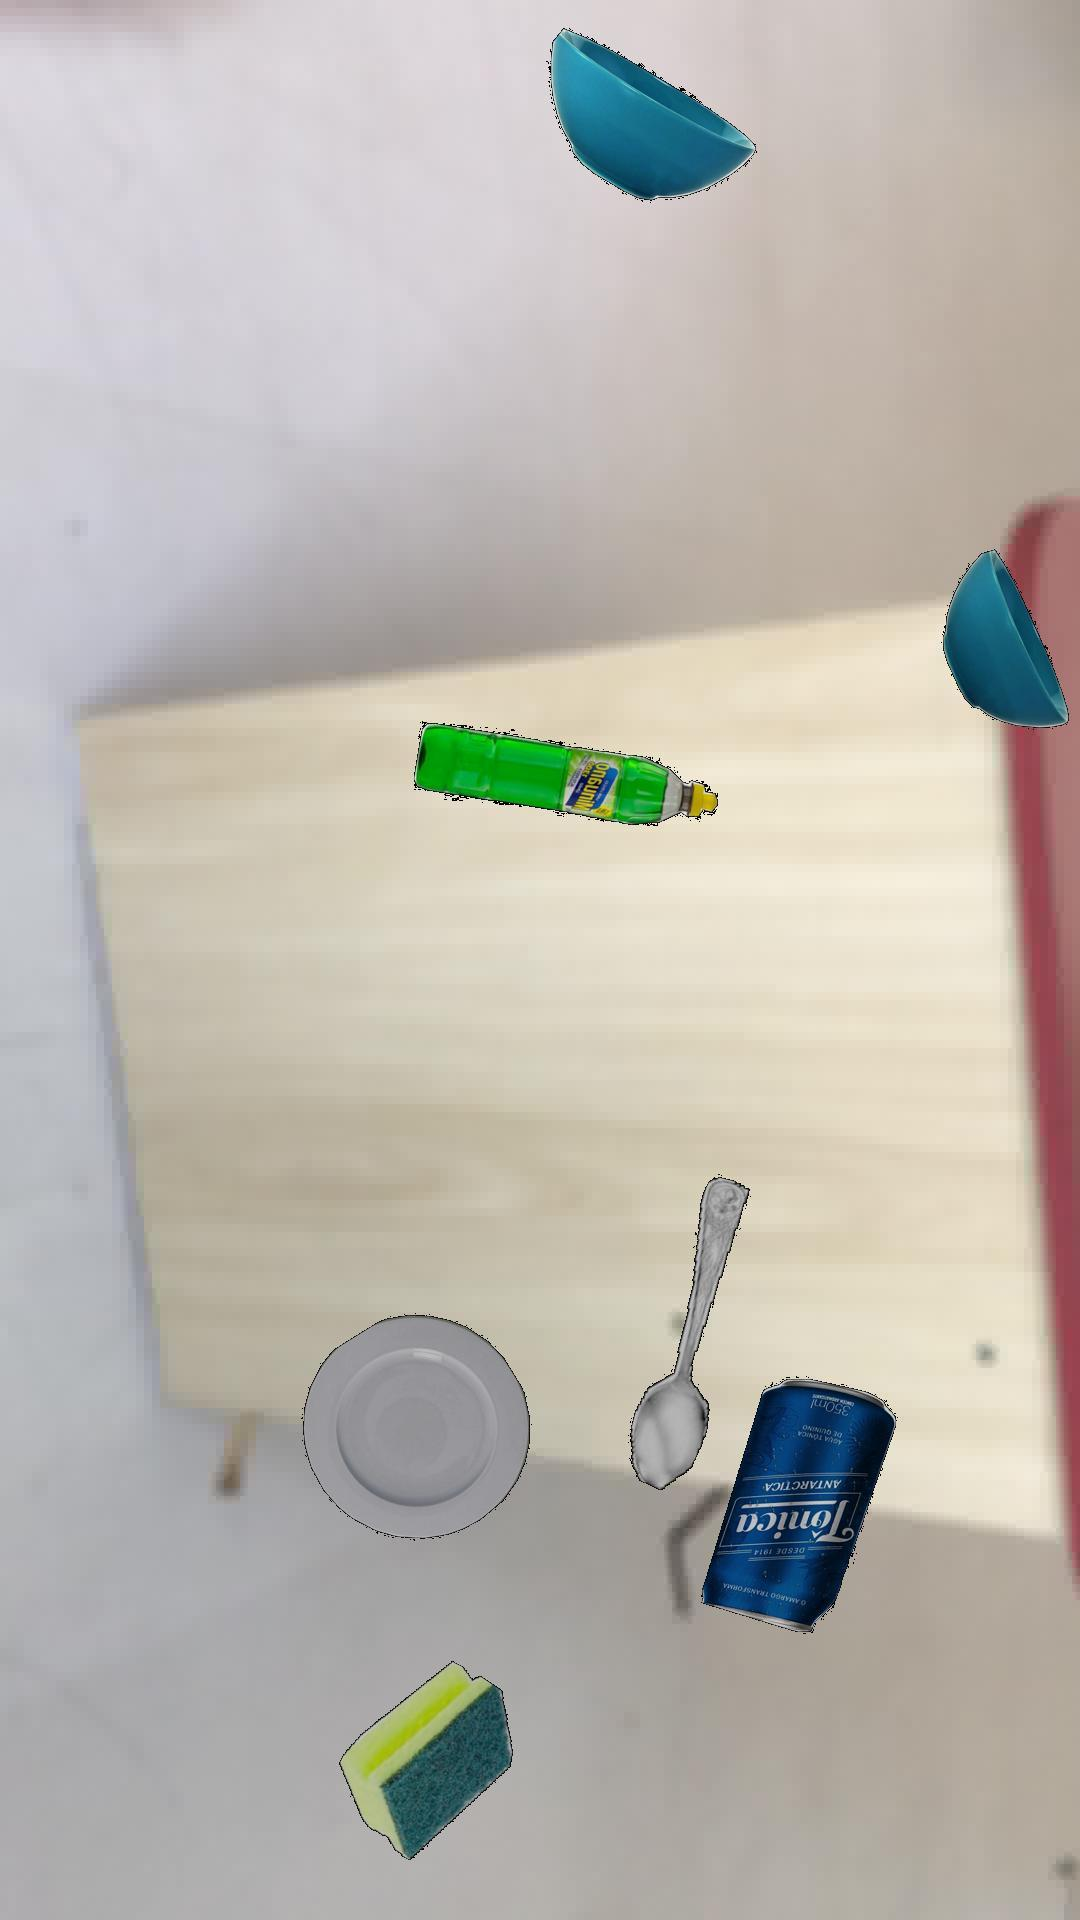bowl: (546, 26, 754, 199), (942, 547, 1068, 727)
cleaner: (413, 720, 716, 824)
plate: (302, 1313, 529, 1538)
sponge: (338, 1659, 512, 1858)
spoon: (629, 1175, 749, 1489)
tonic: (699, 1378, 895, 1630)
